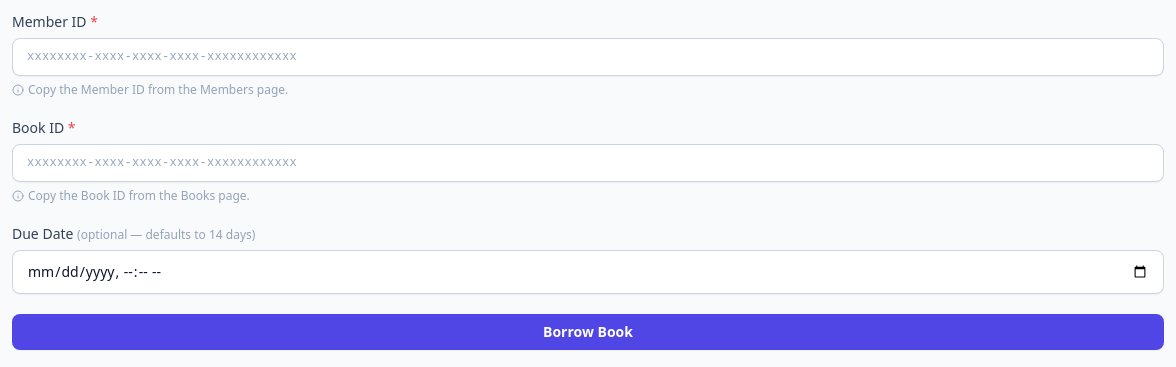
Test: BorrowForm › shows validation error when member_id is empty
Click the button "Borrow Book" at (588, 332), box top-left (12, 314), bottom-right (1164, 350)
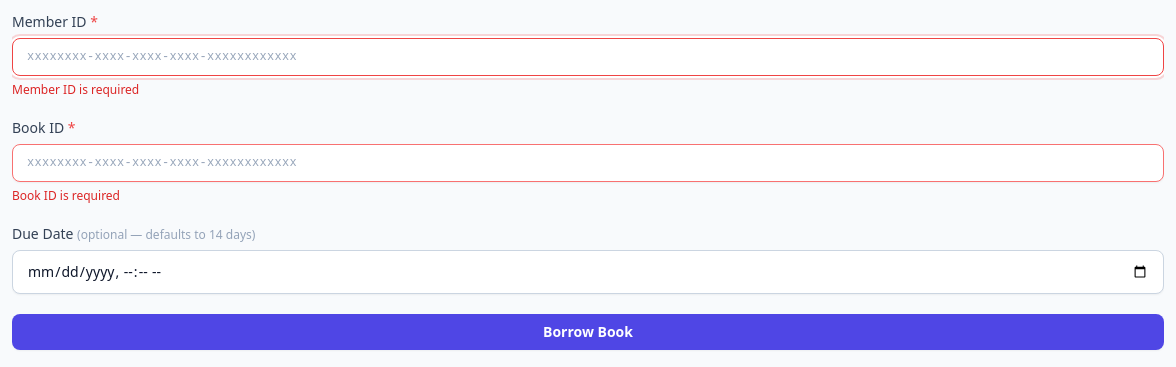
Check: the text "Member ID is required" is shown, box top-left (12, 81), bottom-right (139, 98)
